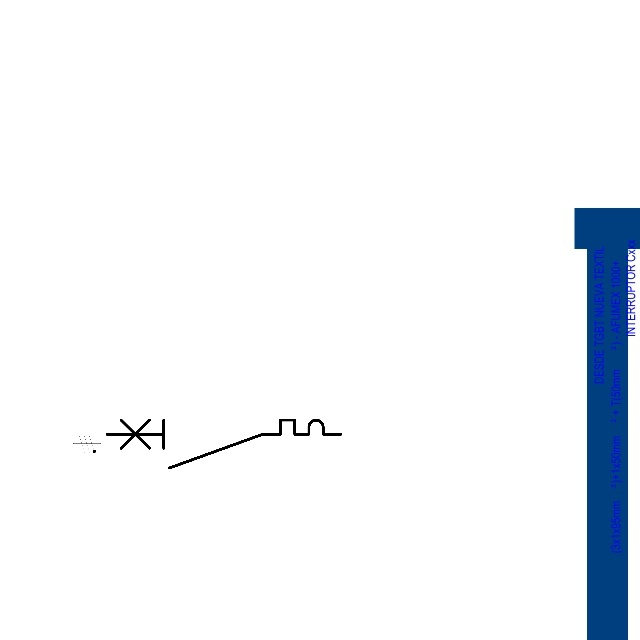interruptor_termomagnetico: (100, 414, 346, 474)
